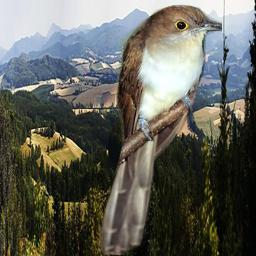Cuckoo: (100, 3, 222, 255)
